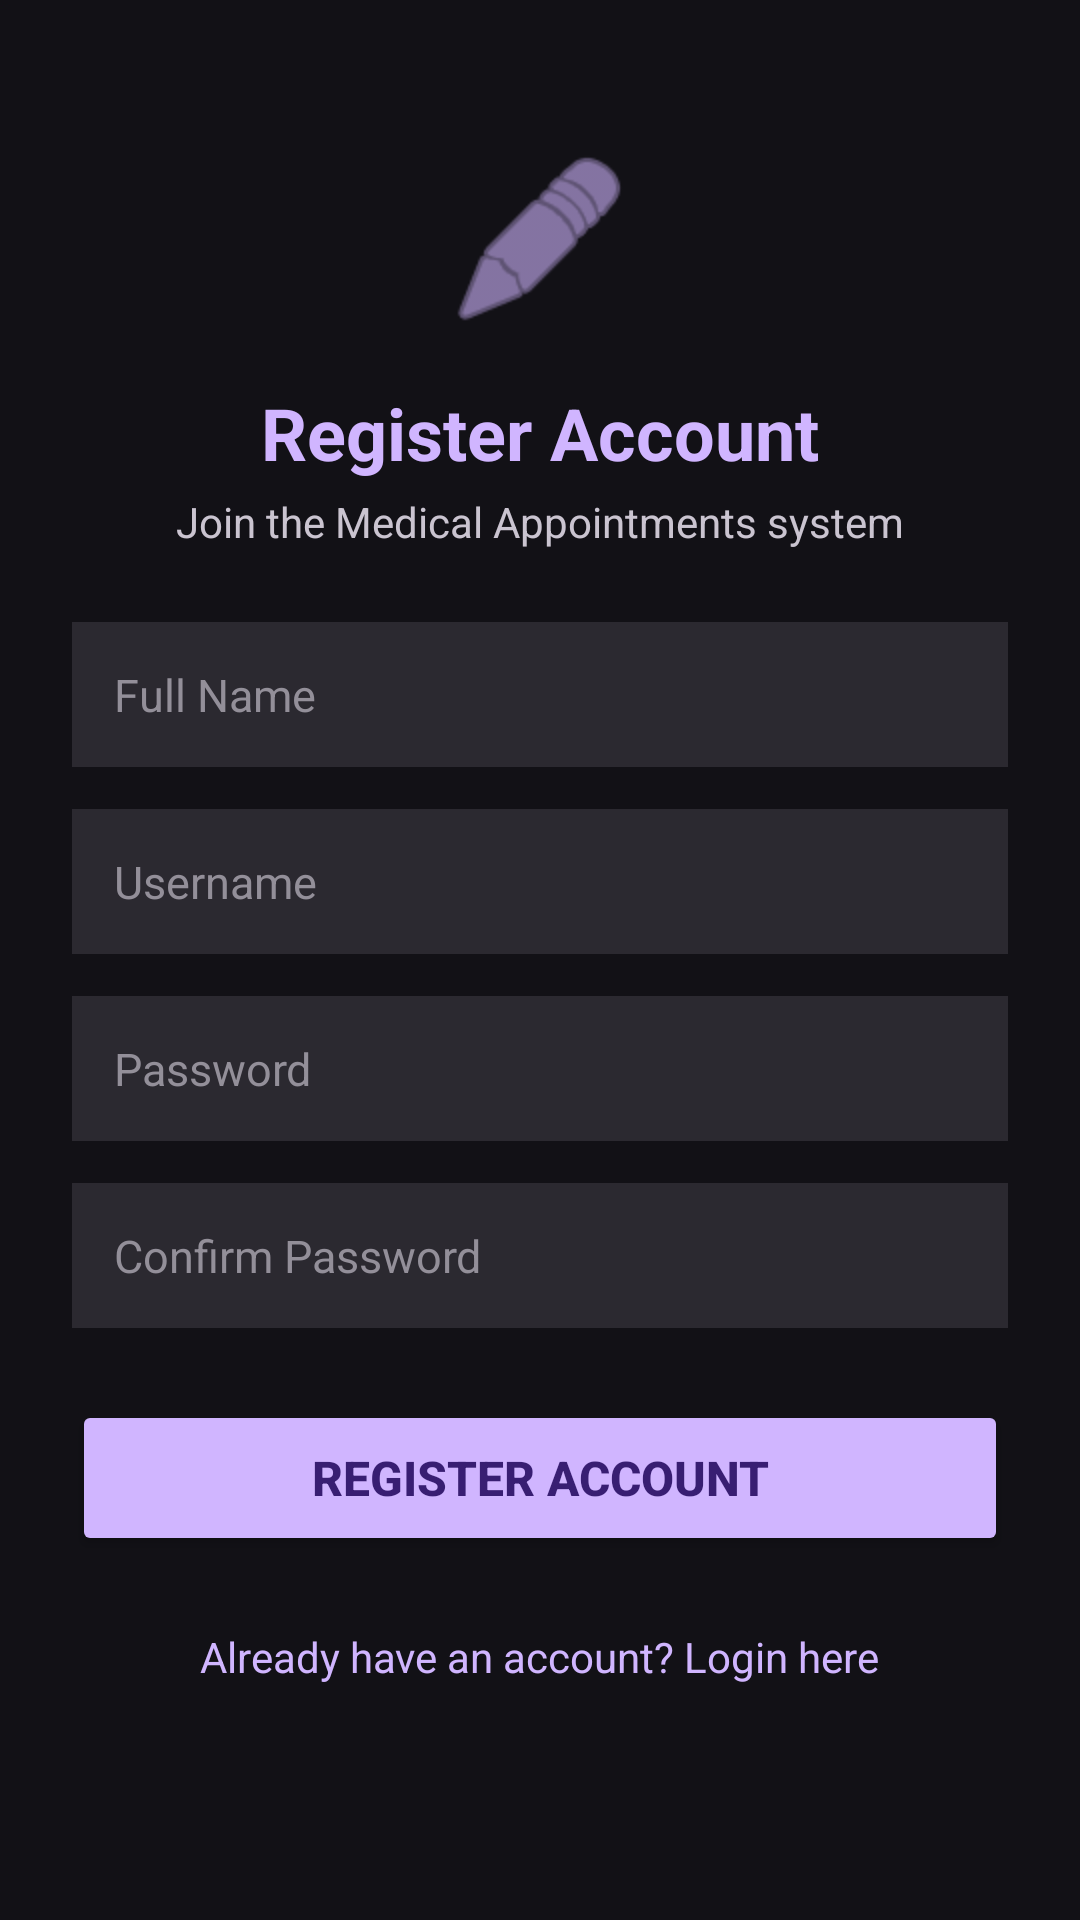

Icons on this 1080*1920 Android screen, each with its box as {"left": x1, "top": y1, "right": x2, "bottom": y2}:
edit: {"left": 458, "top": 157, "right": 621, "bottom": 320}
